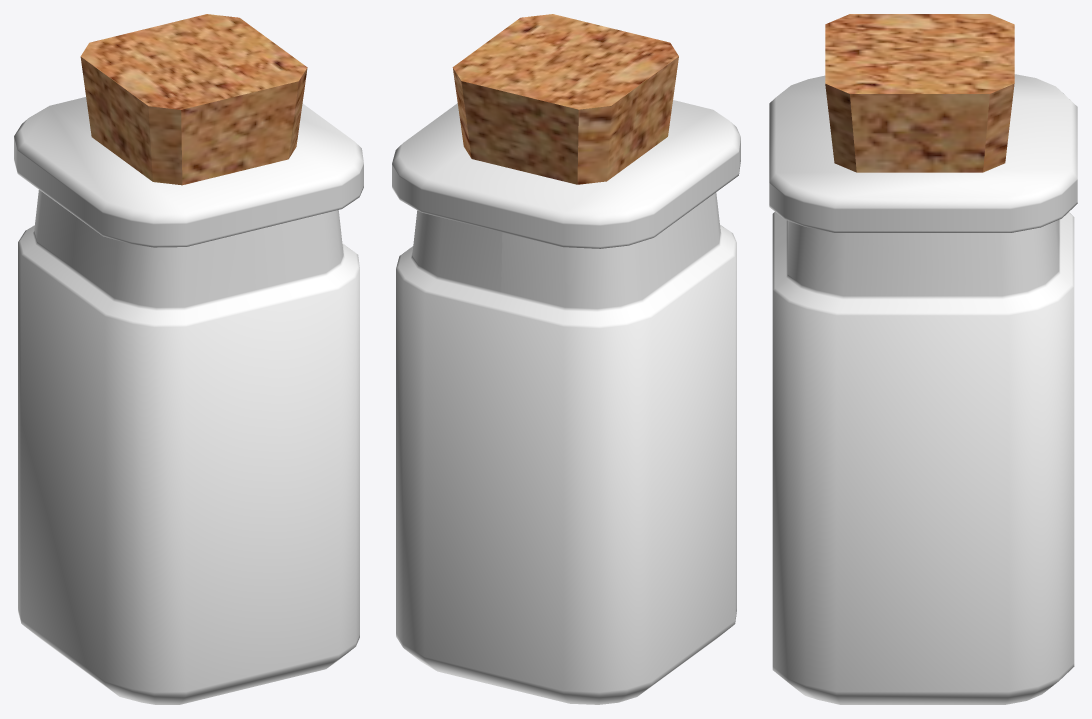
The model's file is Potion01_BlueGreen.fbx.
3 renders of one model, left to right at view 1: azimuth 30°, elevation 25°; view 2: azimuth 150°, elevation 25°; view 3: azimuth 270°, elevation 25°, orthographic. The views are drawn at different scales.
Parts seen in each view (by area): view 1: Cube, Cube.002; view 2: Cube, Cube.002; view 3: Cube, Cube.002.
Boxes of the visible parts, <box> form: Cube: <box>14,97,363,704</box>; Cube.002: <box>80,14,307,185</box>; Cube: <box>392,100,740,704</box>; Cube.002: <box>452,14,678,184</box>; Cube: <box>769,74,1077,704</box>; Cube.002: <box>825,14,1014,172</box>.
Size of the model in its own units: 1.22 by 2.61 by 1.22.
